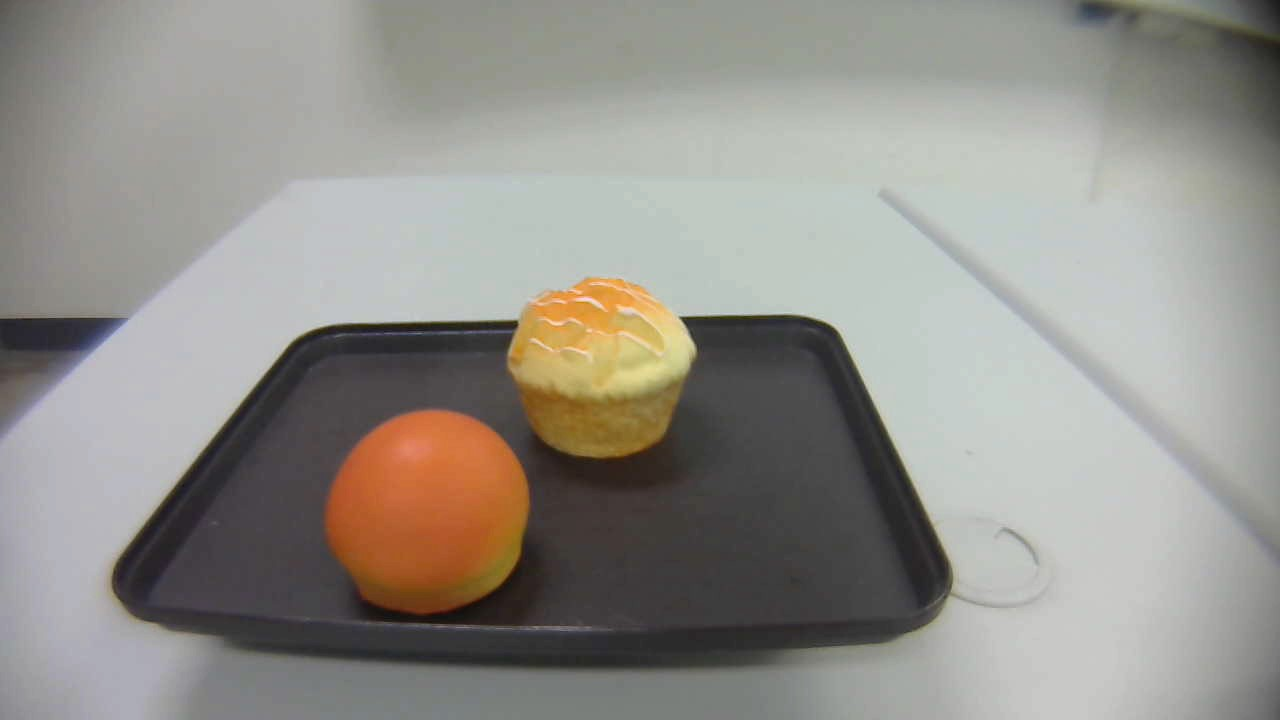bun: (324, 408, 530, 617)
cupcake: (507, 276, 696, 461)
